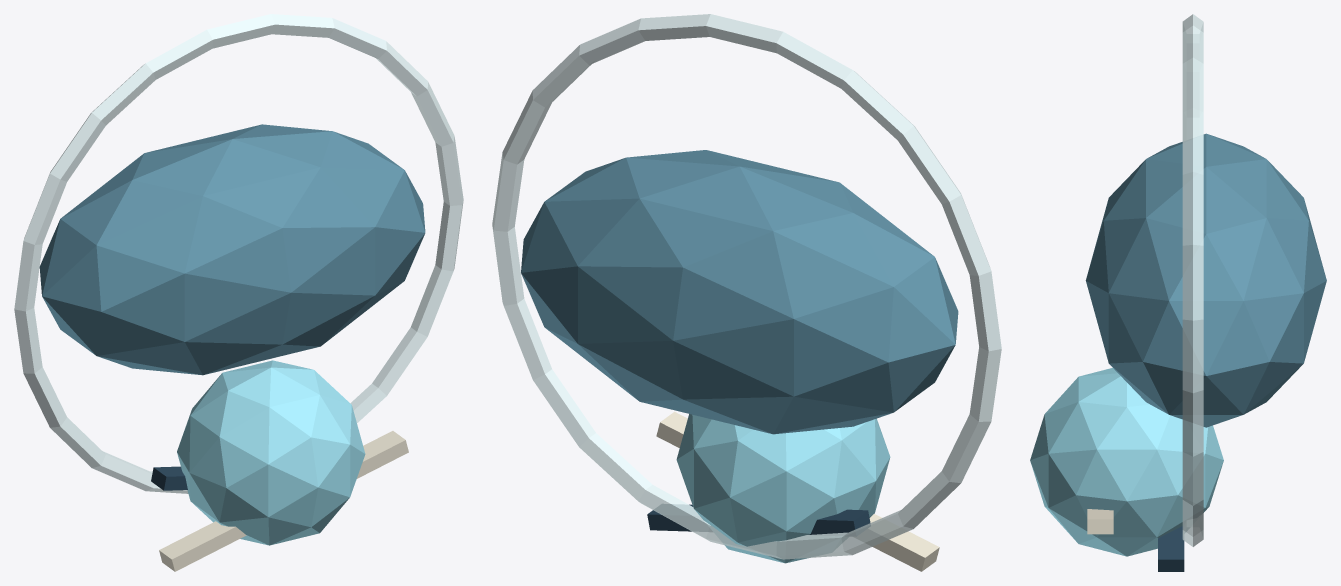
Rendered from 02_random_skin_projector.glb.
3 renders of one model, left to right at view 1: azimuth 30°, elevation 25°; view 2: azimuth 150°, elevation 25°; view 3: azimuth 270°, elevation 25°, orthographic. The views are drawn at different scales.
Visible parts, largest first — view 1: skin_preview_body, skin_preview_head, skin_shuffle_ring, pattern_stripe_a, pattern_stripe_b; view 2: skin_preview_body, skin_shuffle_ring, skin_preview_head, pattern_stripe_a, pattern_stripe_b; view 3: skin_preview_body, skin_preview_head, skin_shuffle_ring, pattern_stripe_b, pattern_stripe_a.
Part boxes in pixels (x1,y1,x2,y2): skin_preview_body: [39, 124, 425, 375]; skin_preview_head: [177, 360, 365, 545]; skin_shuffle_ring: [14, 14, 463, 493]; pattern_stripe_a: [159, 431, 408, 571]; pattern_stripe_b: [151, 466, 187, 490]; skin_preview_body: [521, 150, 958, 434]; skin_shuffle_ring: [492, 14, 1001, 559]; skin_preview_head: [676, 414, 890, 563]; pattern_stripe_a: [656, 411, 939, 571]; pattern_stripe_b: [647, 504, 870, 535]; skin_preview_body: [1085, 133, 1326, 427]; skin_preview_head: [1030, 368, 1223, 556]; skin_shuffle_ring: [1182, 14, 1203, 546]; pattern_stripe_b: [1158, 526, 1184, 571]; pattern_stripe_a: [1087, 509, 1113, 534].
Bounding box in the file's own units: 1.21 × 1.27 × 0.6736.
